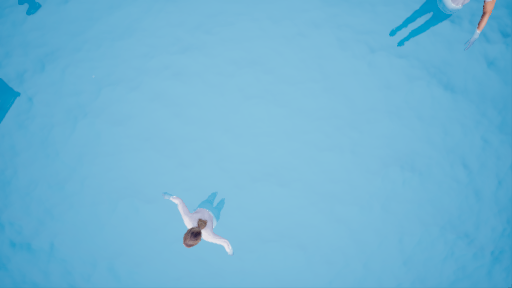person: (164, 187, 245, 259)
